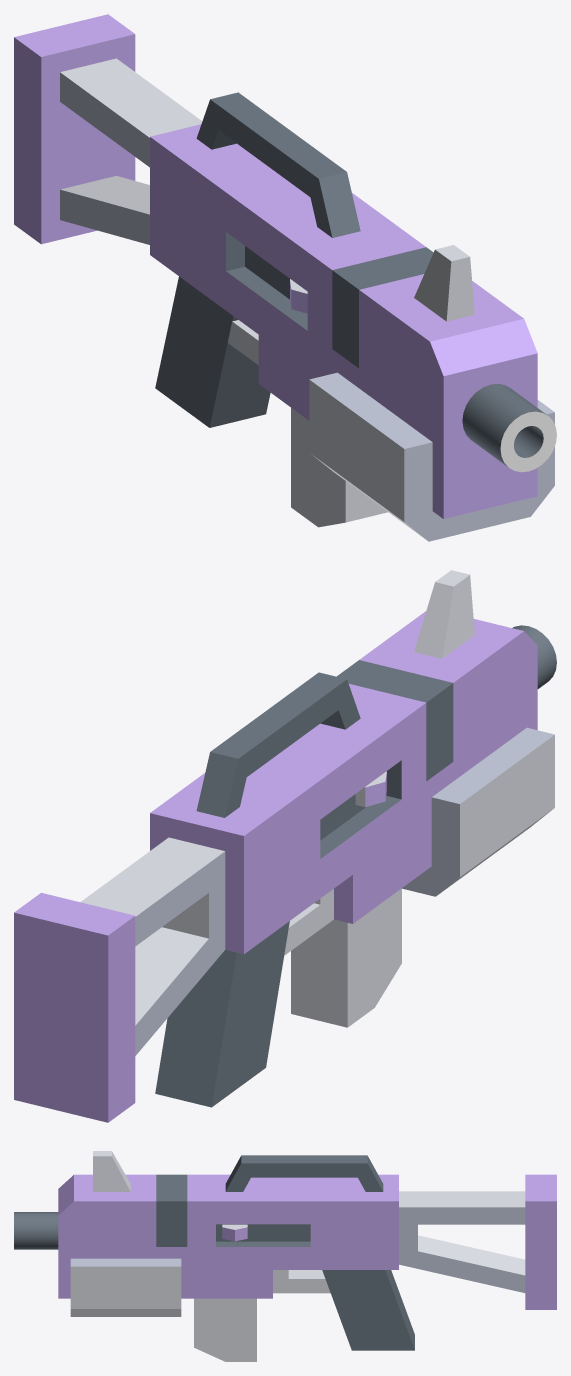
The model's file is blasterD.glb.
The picture shows the model from 3 angles, top to bottom: view 1: azimuth 30°, elevation 25°; view 2: azimuth 150°, elevation 25°; view 3: azimuth 270°, elevation 25°; orthographic projection. The views are drawn at different scales.
Visible parts, largest first — view 1: blasterD; view 2: blasterD; view 3: blasterD.
Part boxes in pixels (box(x1,y1,x2,y2)): blasterD: box(14, 14, 556, 541); blasterD: box(14, 570, 556, 1122); blasterD: box(14, 1151, 556, 1361).
Bounding box in the file's own units: 0.16 × 0.35 × 0.86.
